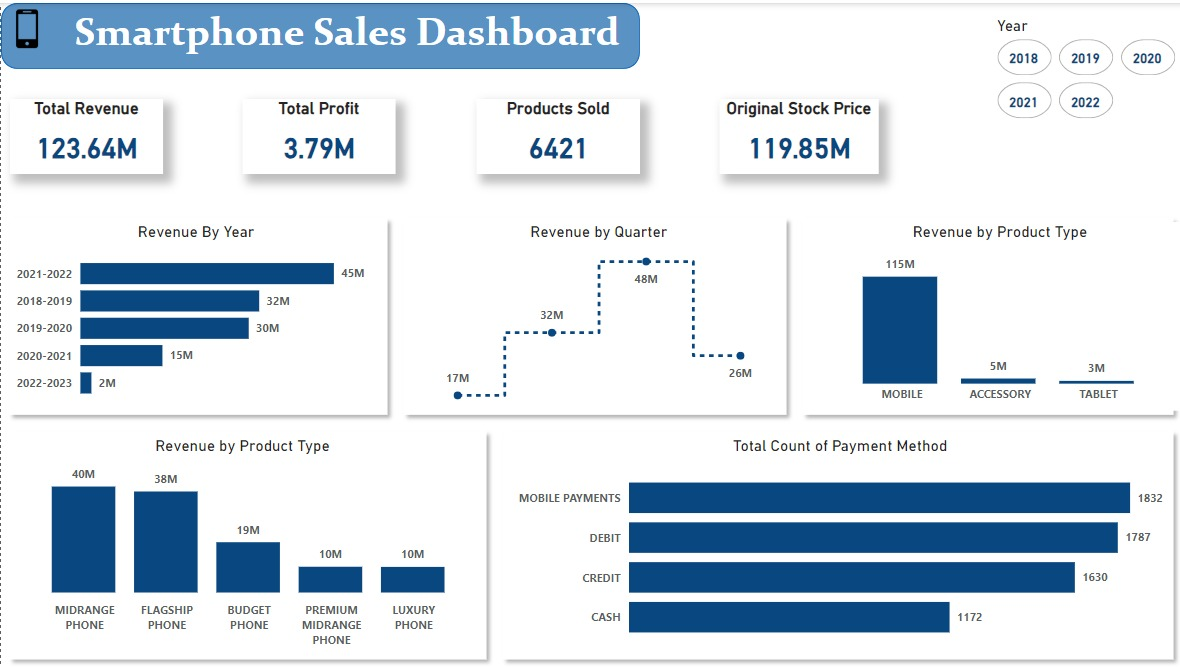

This screenshot's page, from the dashboard's own definition file:
{"tool":"powerbi","page":{"name":"Page 1","canvas":[1280,720],"ordinal":0},"visuals":[{"type":"shape","box":[0,0,692.9,71.6],"z":0},{"type":"textbox","box":[74.8,0,618.1,79.7],"z":1000},{"type":"card","title":"Total Revenue","fields":{"Values":["Sum(SMARTPHONE RETAIL OUTLET SALE DATA.Revenue)"]},"box":[9.8,104.1,165.9,81.3],"z":2000},{"type":"card","title":"Total Profit","fields":{"Values":["Sum(SMARTPHONE RETAIL OUTLET SALE DATA.Profit)"]},"box":[262.4,104.1,165.9,81.3],"z":3000},{"type":"card","title":" Products Sold","fields":{"Values":["CountNonNull(SMARTPHONE RETAIL OUTLET SALE DATA.Quantity)"]},"box":[515.1,104.1,177.3,81.3],"z":4000},{"type":"card","title":"Original Stock Price","fields":{"Values":["Sum(SMARTPHONE RETAIL OUTLET SALE DATA.Revenue)"]},"box":[779.1,104.1,172.4,81.3],"z":5000},{"type":"advancedSlicerVisual","fields":{"Values":["SMARTPHONE RETAIL OUTLET SALE DATA.Date.Variation.Date Hierarchy.Year"]},"box":[1075.4,14.2,204.6,115.4],"z":6000},{"type":"shape","box":[0,224.5,427.8,231],"z":7000},{"type":"shape","box":[427.8,224.5,432.7,231],"z":8000},{"type":"shape","box":[860.4,224.5,419.6,231],"z":9000},{"type":"shape","box":[0,455.4,535.1,265.1],"z":10000},{"type":"shape","box":[535.1,455.4,745,265.1],"z":11000},{"type":"barChart","title":"Revenue By Year","fields":{"Category":["SMARTPHONE RETAIL OUTLET SALE DATA.F.Y"],"Y":["Sum(SMARTPHONE RETAIL OUTLET SALE DATA.Revenue)"]},"box":[9.8,237.5,403.4,203.3],"z":12000},{"type":"lineChart","title":"Revenue by Quarter","fields":{"Category":["SMARTPHONE RETAIL OUTLET SALE DATA.Date.Variation.Date Hierarchy.Quarter"],"Y":["Sum(SMARTPHONE RETAIL OUTLET SALE DATA.Revenue)"]},"box":[448.9,237.5,398.5,204.9],"z":13000},{"type":"clusteredColumnChart","title":"Revenue by Product Type","fields":{"Y":["Sum(SMARTPHONE RETAIL OUTLET SALE DATA.Revenue)"],"Category":["SMARTPHONE RETAIL OUTLET SALE DATA.TYPE OF PRODUCT"]},"box":[886.5,237.5,393.6,204.9],"z":14000},{"type":"clusteredColumnChart","title":"Revenue by Product Type","fields":{"Y":["Sum(SMARTPHONE RETAIL OUTLET SALE DATA.Revenue)"],"Category":["SMARTPHONE RETAIL OUTLET SALE DATA.TYPE OF ACCESSORY/MOBILE"]},"box":[0,470.1,523.7,235.8],"z":14001},{"type":"barChart","title":"Total Count of Payment Method","fields":{"Category":["SMARTPHONE RETAIL OUTLET SALE DATA.PAYMENT TYPE"],"Y":["CountNonNull(SMARTPHONE RETAIL OUTLET SALE DATA.PAYMENT TYPE)"]},"box":[554.7,470.1,710.8,235.8],"z":14002},{"type":"image","box":[0,1.6,56.9,52],"z":14003}]}

Visuals, with their boxes in screenshot pixels (x1, y1, x2, y2), scaled from the page's 1280x720 canvas onto the 1180x667 screenshot:
shape: 0/0/639/66
textbox: 69/0/639/74
"Total Revenue" card: 9/96/162/172
"Total Profit" card: 242/96/395/172
" Products Sold" card: 475/96/638/172
"Original Stock Price" card: 718/96/877/172
advancedSlicerVisual - SMARTPHONE RETAIL OUTLET SALE DATA.Date.Variation.Date Hierarchy.Year: 991/13/1179/120
shape: 0/208/394/422
shape: 394/208/793/422
shape: 793/208/1179/422
shape: 0/422/493/666
shape: 493/422/1179/666
"Revenue By Year" barChart: 9/220/381/408
"Revenue by Quarter" lineChart: 414/220/781/410
"Revenue by Product Type" clusteredColumnChart: 817/220/1179/410
"Revenue by Product Type" clusteredColumnChart: 0/435/483/654
"Total Count of Payment Method" barChart: 511/435/1167/654
image: 0/1/52/50
